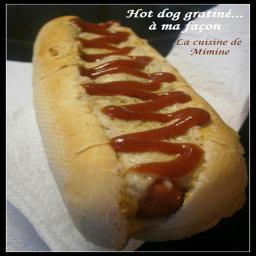hotdog: (28, 13, 246, 250)
